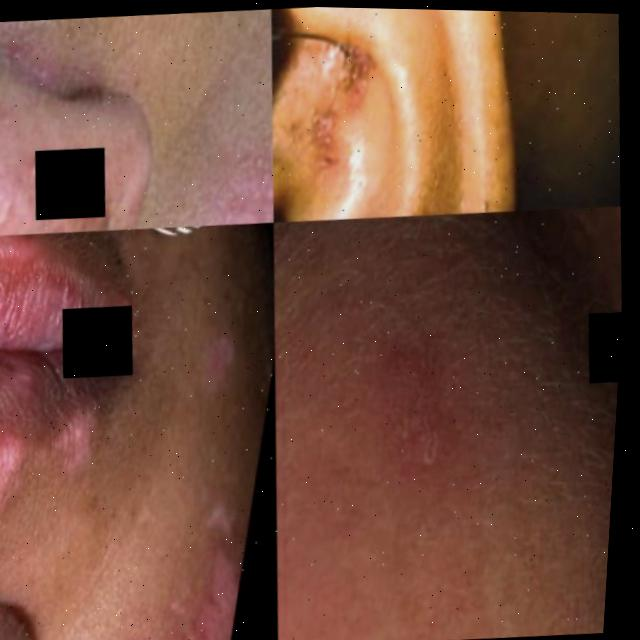lupus-detected: (257, 263, 552, 559), (257, 6, 616, 230), (0, 226, 154, 516), (0, 11, 180, 240), (33, 482, 262, 640), (93, 94, 280, 234), (163, 313, 247, 396)
